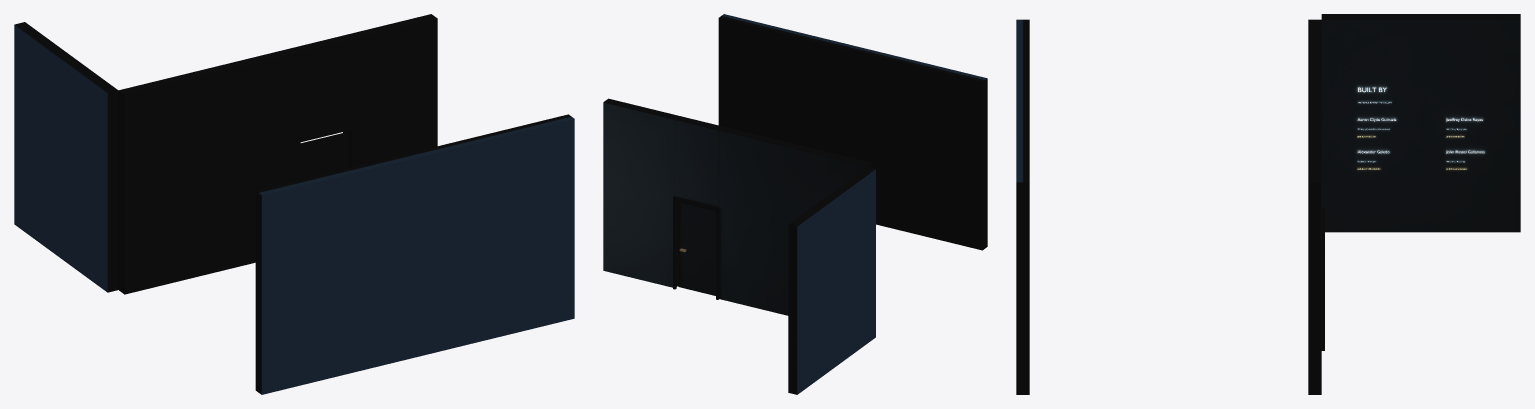
File: gallery-additions.glb
3 renders of one model, left to right at view 1: azimuth 30°, elevation 25°; view 2: azimuth 150°, elevation 25°; view 3: azimuth 270°, elevation 25°, orthographic. The views are drawn at different scales.
Visible parts, largest first — view 1: Gallery_Additions_Baked; view 2: Gallery_Additions_Baked; view 3: Gallery_Additions_Baked.
Part boxes in pixels (x1,y1,x2,y2): Gallery_Additions_Baked: (14,14,574,394); Gallery_Additions_Baked: (603,14,987,394); Gallery_Additions_Baked: (1016,14,1520,394).
Size of the model in its own units: 7.5 by 4.42 by 9.5.
Materials: 4 (1 with a texture image).
